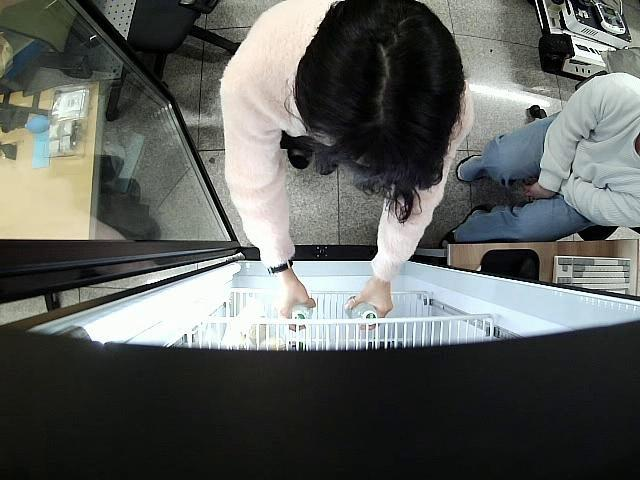18_trevi: (347, 296, 378, 328), (290, 303, 312, 328)
